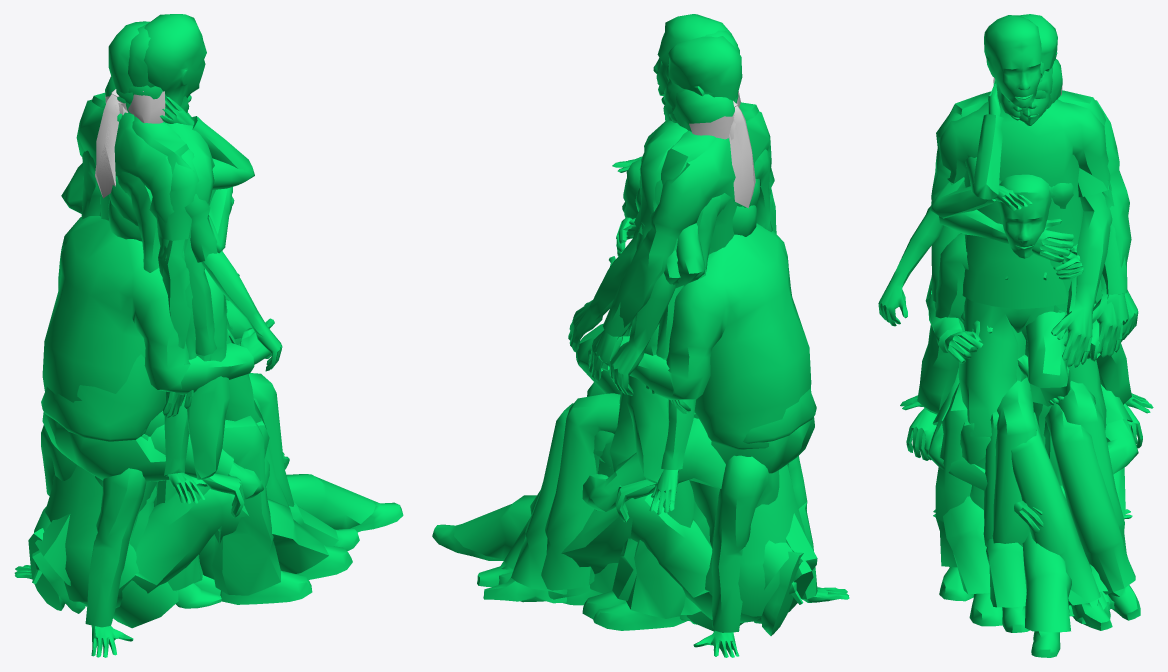
Rendered from HuMan.glb.
The picture shows the model from 3 angles, left to right: view 1: azimuth 30°, elevation 25°; view 2: azimuth 150°, elevation 25°; view 3: azimuth 270°, elevation 25°; orthographic projection. The views are drawn at different scales.
Visible parts, largest first — view 1: SM_Man_Sit02, SM_Man_Sit_Talking, SM_Man_Sit01, SM_Woman_Pants_Sit04, SM_Man_Stand_Watching, SM_Man_Stand_Walking01, SM_Man_Stand_Walking02, SM_Woman_Pants_Stand_Leaning, SM_Man_Stand_Talking, SM_Woman_Pants_Stand_Waling, SM_Woman_Skirt_Stand_Phone, SM_Woman_Pants_Sit01 (+4 smaller); view 2: SM_Man_Sit_Talking, SM_Man_Sit01, SM_Man_Stand_Walking01, SM_Woman_Pants_Sit04, SM_Man_Stand_Watching, SM_Man_Sit02, SM_Woman_Pants_Sit01, SM_Man_Stand_Talking, SM_Woman_Pants_Sit02, SM_Man_Stand_Walking02, SM_Woman_Pants_Stand_Leaning, SM_Woman_Skirt_Stand_Walking (+5 smaller); view 3: SM_Man_Stand_Walking02, SM_Man_Stand_Watching, SM_Woman_Pants_Sit01, SM_Man_Sit02, SM_Man_Sit01, SM_Woman_Pants_Sit02, SM_Woman_Pants_Sit04, SM_Man_Stand_Talking, SM_Man_Stand_Walking01, SM_Man_Sit_Talking, SM_Woman_Skirt_Stand_Phone, SM_Woman_Pants_Stand_Leaning (+5 smaller).
Part boxes in pixels (x1,y1,x2,y2): SM_Man_Sit02: [41, 189, 312, 604]; SM_Man_Sit_Talking: [42, 216, 274, 457]; SM_Man_Sit01: [45, 424, 352, 607]; SM_Woman_Pants_Sit04: [14, 425, 403, 657]; SM_Man_Stand_Watching: [144, 14, 220, 595]; SM_Man_Stand_Walking01: [76, 21, 215, 579]; SM_Man_Stand_Walking02: [28, 149, 266, 610]; SM_Woman_Pants_Stand_Leaning: [81, 89, 251, 345]; SM_Man_Stand_Talking: [92, 25, 222, 262]; SM_Woman_Pants_Stand_Waling: [32, 85, 237, 613]; SM_Woman_Skirt_Stand_Phone: [61, 96, 254, 213]; SM_Woman_Pants_Sit01: [108, 199, 286, 503]; SM_Man_Sit_Talking: [588, 223, 811, 462]; SM_Man_Sit01: [498, 417, 806, 622]; SM_Man_Stand_Walking01: [588, 36, 773, 381]; SM_Woman_Pants_Sit04: [432, 455, 849, 657]; SM_Man_Stand_Watching: [593, 14, 737, 630]; SM_Man_Sit02: [563, 159, 816, 605]; SM_Woman_Pants_Sit01: [477, 205, 756, 603]; SM_Man_Stand_Talking: [582, 30, 759, 619]; SM_Woman_Pants_Sit02: [520, 382, 698, 602]; SM_Man_Stand_Walking02: [568, 65, 803, 635]; SM_Woman_Pants_Stand_Leaning: [575, 101, 772, 413]; SM_Woman_Skirt_Stand_Walking: [623, 89, 803, 623]; SM_Man_Stand_Walking02: [936, 61, 1112, 509]; SM_Man_Stand_Watching: [931, 15, 1128, 558]; SM_Woman_Pants_Sit01: [900, 393, 1153, 630]; SM_Man_Sit02: [906, 174, 1142, 601]; SM_Man_Sit01: [927, 368, 1138, 626]; SM_Woman_Pants_Sit02: [961, 310, 1126, 609]; SM_Woman_Pants_Sit04: [933, 509, 1132, 657]; SM_Man_Stand_Talking: [931, 15, 1138, 431]; SM_Man_Stand_Walking01: [1011, 14, 1131, 381]; SM_Man_Sit_Talking: [925, 277, 1100, 616]; SM_Woman_Skirt_Stand_Phone: [965, 67, 1080, 269]; SM_Woman_Pants_Stand_Leaning: [1026, 88, 1070, 406].
Bounding box in the file's own units: 1.25 × 1.89 × 0.8573.
